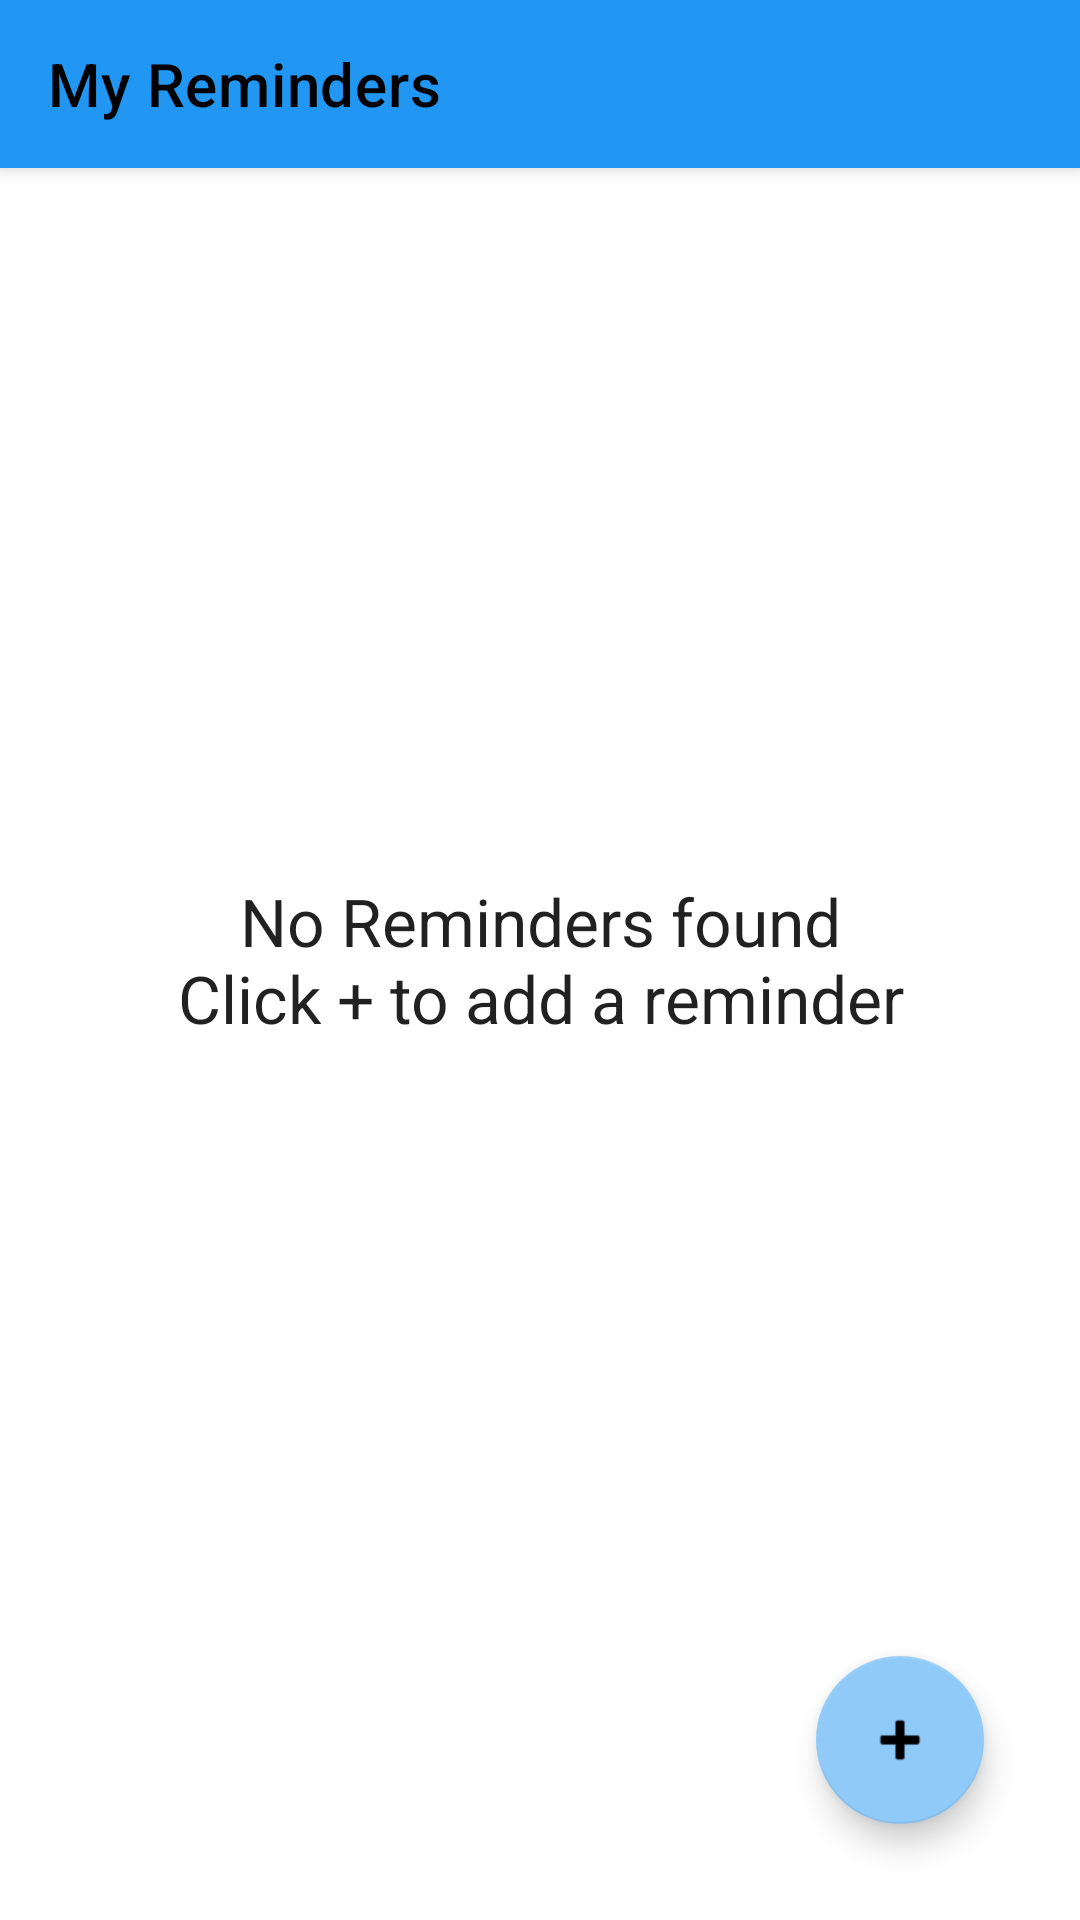

Screen size 1080×1920. Icon name, then its box in pixels as {"x1": x1, "y1": y1, "x2": x2, "y2": y2}:
Add Reminder: {"x1": 816, "y1": 1656, "x2": 984, "y2": 1824}
